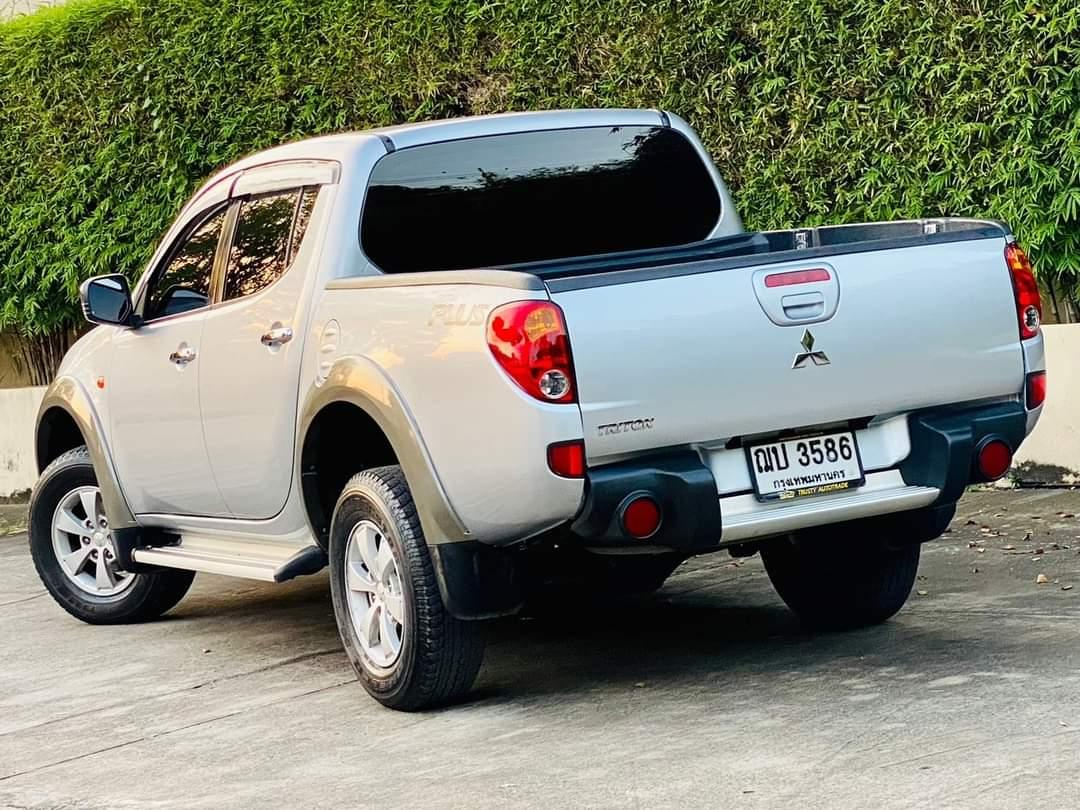license-plate: (740, 424, 872, 507)
